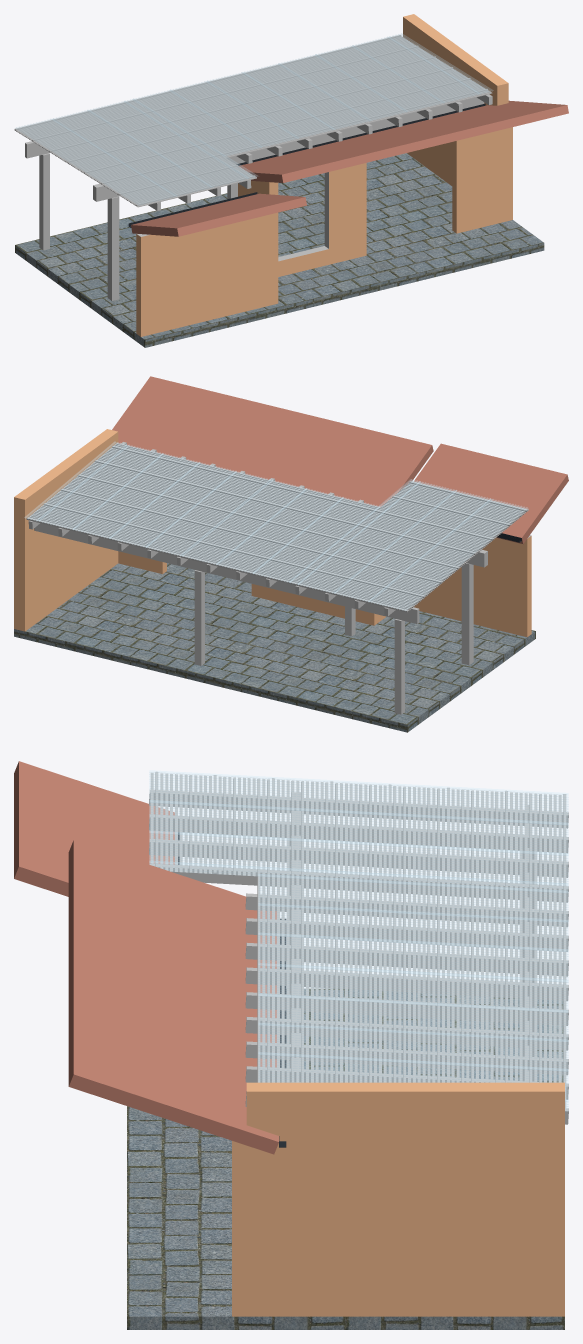
The model's file is Pergola_3posts.gltf.
3 views of the same model, one above another, from view 1: azimuth 30°, elevation 25°; view 2: azimuth 150°, elevation 25°; view 3: azimuth 270°, elevation 25° (orthographic). The views are drawn at different scales.
Parts seen in each view (by area): view 1: Pergola_Concept_no_rear_beam_3_posrts_rear_BH_WAVE_5_EDITABL; view 2: Pergola_Concept_no_rear_beam_3_posrts_rear_BH_WAVE_5_EDITABL; view 3: Pergola_Concept_no_rear_beam_3_posrts_rear_BH_WAVE_5_EDITABL.
Part boxes in pixels (bbox=[...]): Pergola_Concept_no_rear_beam_3_posrts_rear_BH_WAVE_5_EDITABL: bbox=[14, 14, 568, 347]; Pergola_Concept_no_rear_beam_3_posrts_rear_BH_WAVE_5_EDITABL: bbox=[14, 376, 568, 732]; Pergola_Concept_no_rear_beam_3_posrts_rear_BH_WAVE_5_EDITABL: bbox=[14, 761, 568, 1329].
Size of the model in its own units: 10.83 by 3.96 by 7.6.
